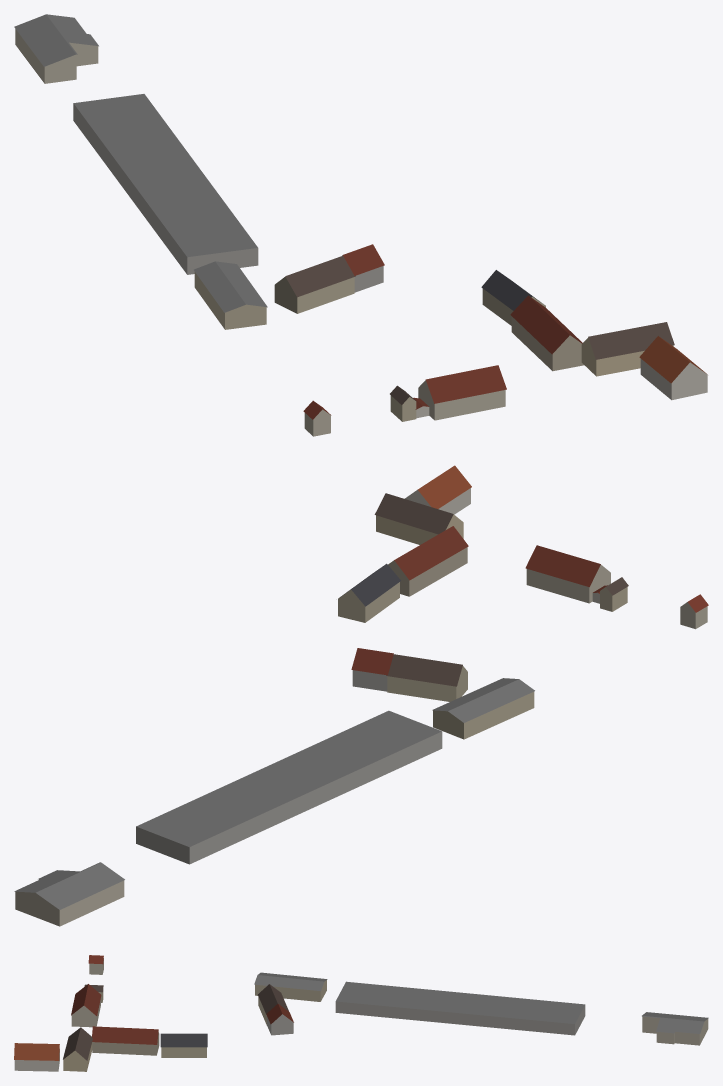
The picture shows the model from 3 angles, top to bottom: view 1: azimuth 30°, elevation 25°; view 2: azimuth 150°, elevation 25°; view 3: azimuth 270°, elevation 25°; orthographic projection. The views are drawn at different scales.
Visible parts, largest first — view 1: buildings; view 2: buildings; view 3: buildings.
Boxes of the visible parts, x1,y1,x2,y2 form: buildings: [14, 14, 707, 436]; buildings: [14, 465, 708, 926]; buildings: [14, 955, 708, 1071].
Size of the model in its own units: 122 by 15.1 by 332.
